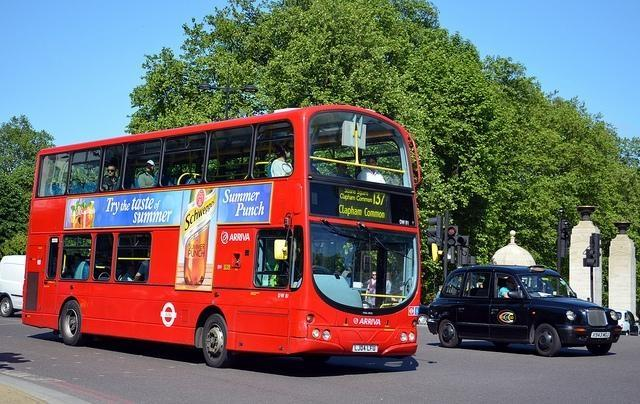bus: (21, 105, 418, 365)
car: (424, 263, 620, 356), (1, 254, 28, 316)
truck: (0, 256, 28, 319)
